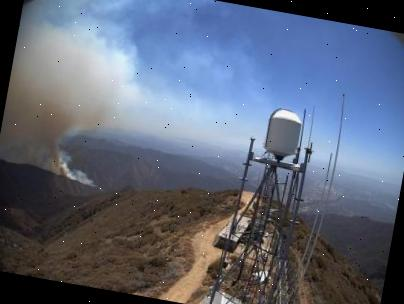smoke: (0, 8, 125, 188)
